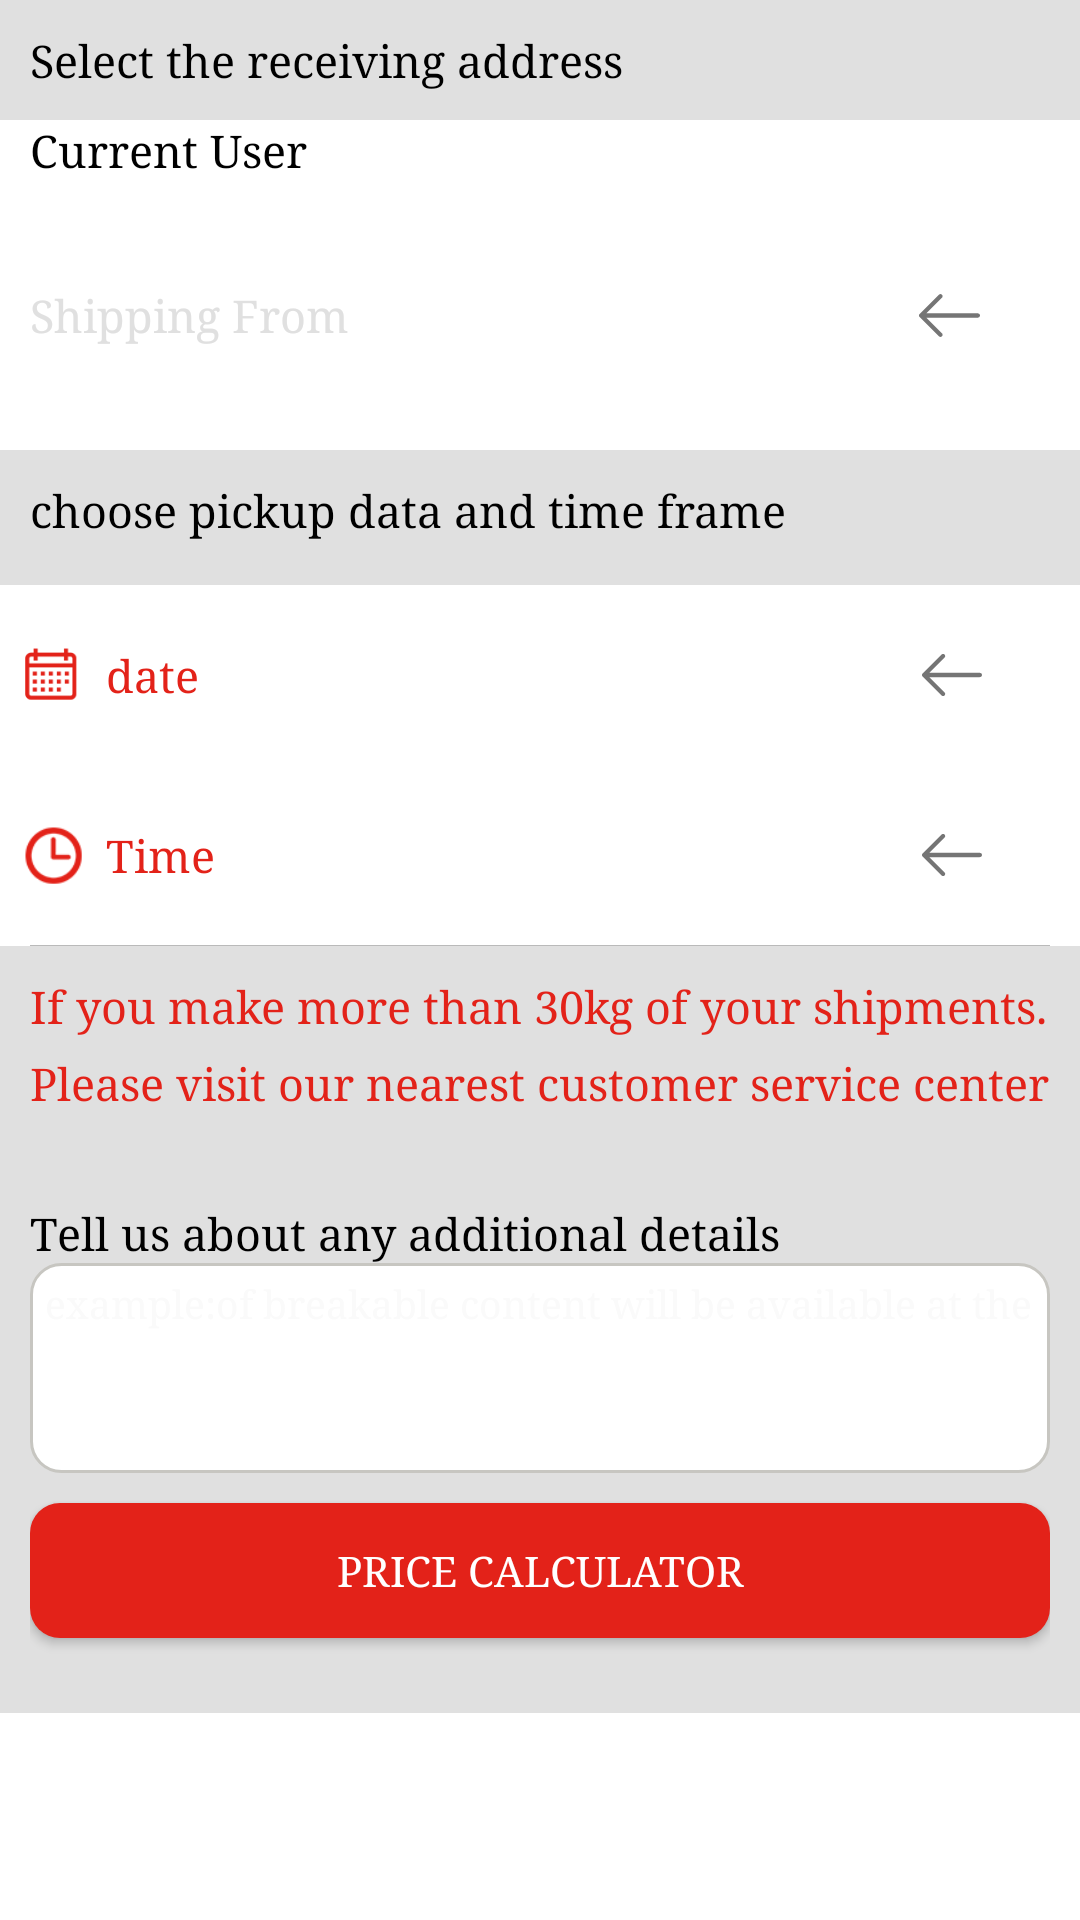

Icons on this 1080 × 1920 Android screen, each with its box as (x1, y1, x2, y2):
left arrow: (919, 294, 980, 337), (922, 654, 982, 696), (922, 834, 982, 876)
